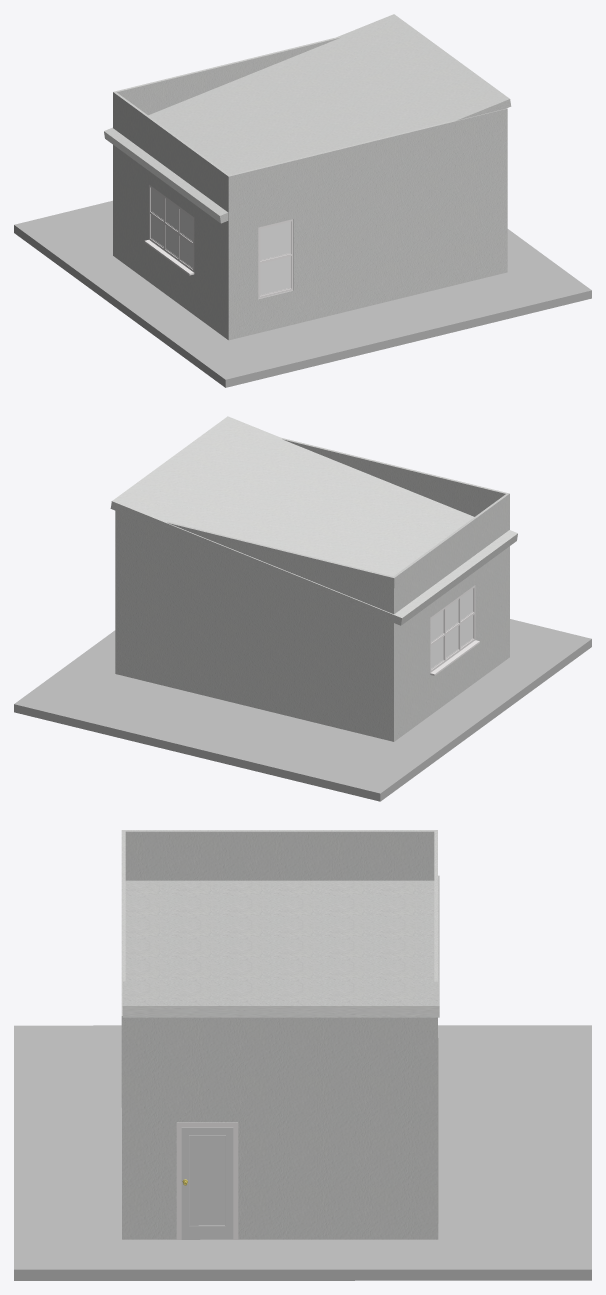
The model's file is FloorPlan210_physics.fbx.
3 renders of one model, top to bottom at view 1: azimuth 30°, elevation 25°; view 2: azimuth 150°, elevation 25°; view 3: azimuth 270°, elevation 25°, orthographic. The views are drawn at different scales.
Parts seen in each view (by area): view 1: FP210:Room.010, FP210:Cube.963, FP210:Floor, FP210:polySurface17, FP210:polySurface6, FP210:polySurface13, FP210:polySurface18; view 2: FP210:Room.010, FP210:Floor, FP210:Cube.963, FP210:polySurface6, FP210:polySurface13; view 3: FP210:Room.010, FP210:Floor, FP210:Cube.963, FP210:Door.005, FP210:DoorFrame.003.
Part boxes in pixels (left/top/right/bottom): FP210:Room.010: left=113, top=36, right=507, bottom=340; FP210:Cube.963: left=104, top=14, right=511, bottom=223; FP210:Floor: left=14, top=200, right=591, bottom=387; FP210:polySurface17: left=260, top=222, right=289, bottom=294; FP210:polySurface6: left=151, top=188, right=192, bottom=267; FP210:polySurface13: left=144, top=184, right=194, bottom=275; FP210:polySurface18: left=258, top=219, right=293, bottom=298; FP210:Room.010: left=115, top=438, right=509, bottom=741; FP210:Floor: left=14, top=619, right=591, bottom=801; FP210:Cube.963: left=110, top=416, right=517, bottom=625; FP210:polySurface6: left=431, top=589, right=472, bottom=668; FP210:polySurface13: left=430, top=585, right=479, bottom=675; FP210:Room.010: left=121, top=830, right=438, bottom=1239; FP210:Floor: left=14, top=1025, right=591, bottom=1280; FP210:Cube.963: left=122, top=875, right=439, bottom=1017; FP210:Door.005: left=181, top=1127, right=233, bottom=1239; FP210:DoorFrame.003: left=176, top=1122, right=238, bottom=1239.
Size of the model in its own units: 936 by 441 by 936.
